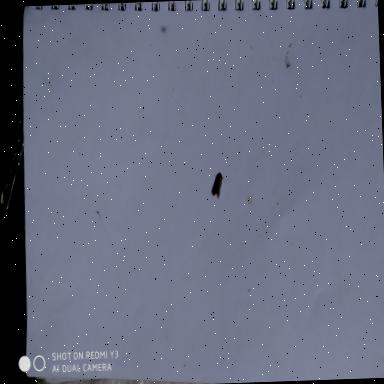pbw: (210, 172, 228, 200)
